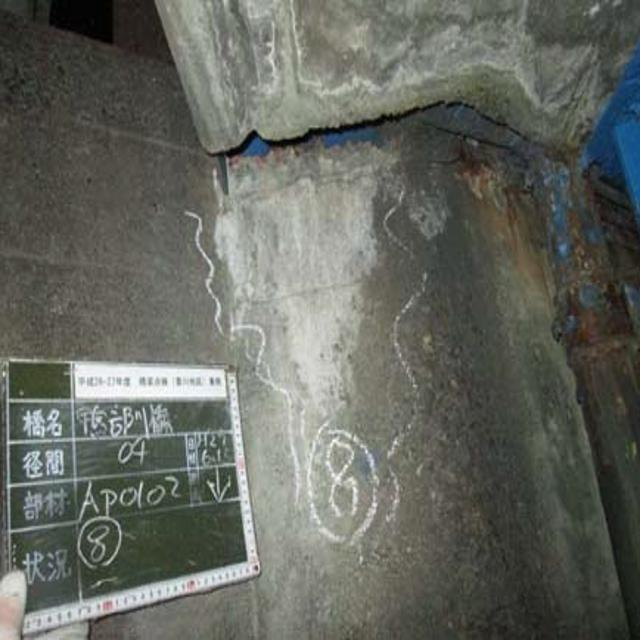corrosion: (464, 133, 640, 401)
freelime: (204, 137, 404, 457)
